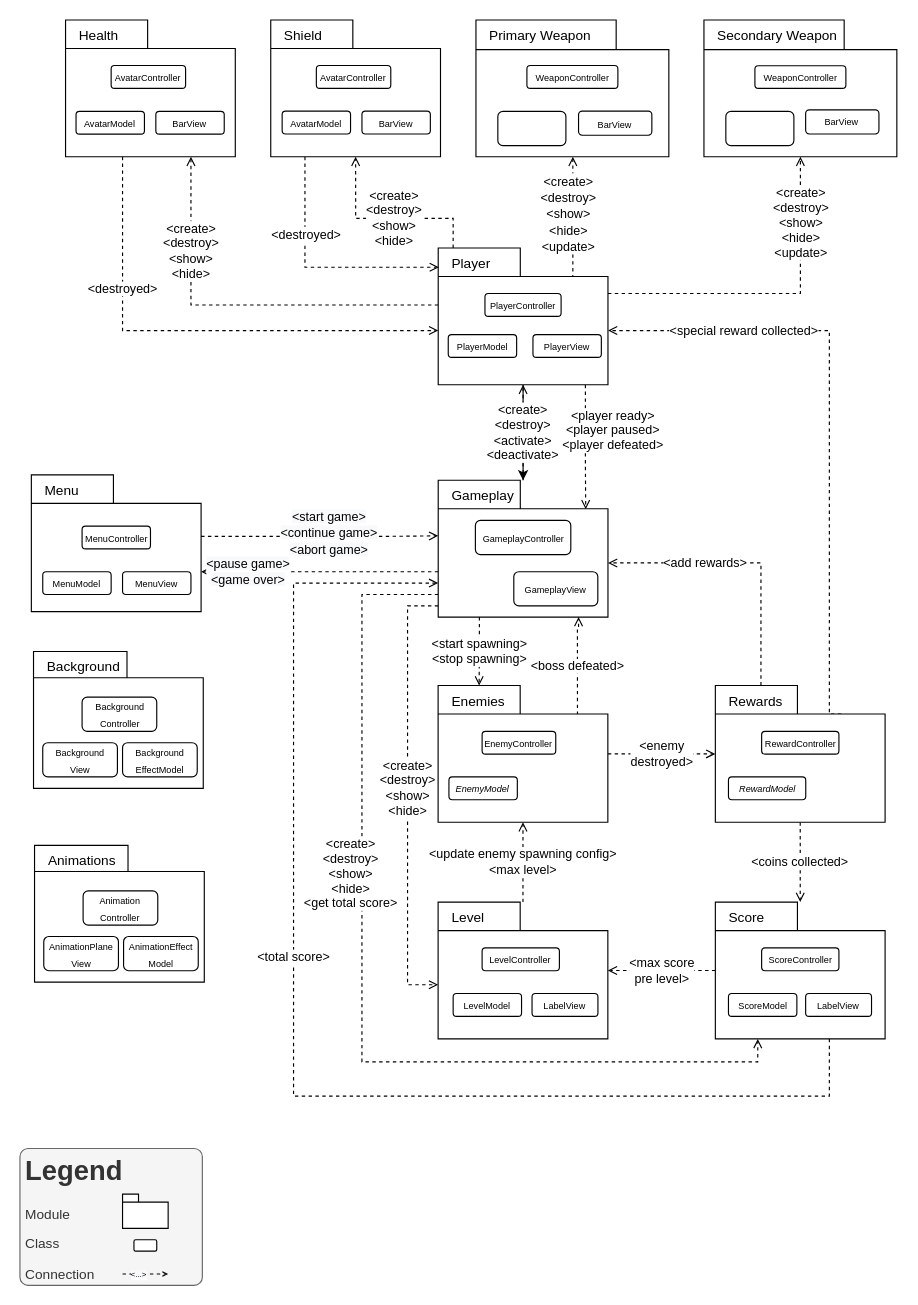
This 918x1305 diagram has some shape labels left out. The centre of each missing label's shape, as x and y in pixels:
"Primary WeaponModel" goes at pixel 531 128.
"Secondary WeaponModel" goes at pixel 759 128.
